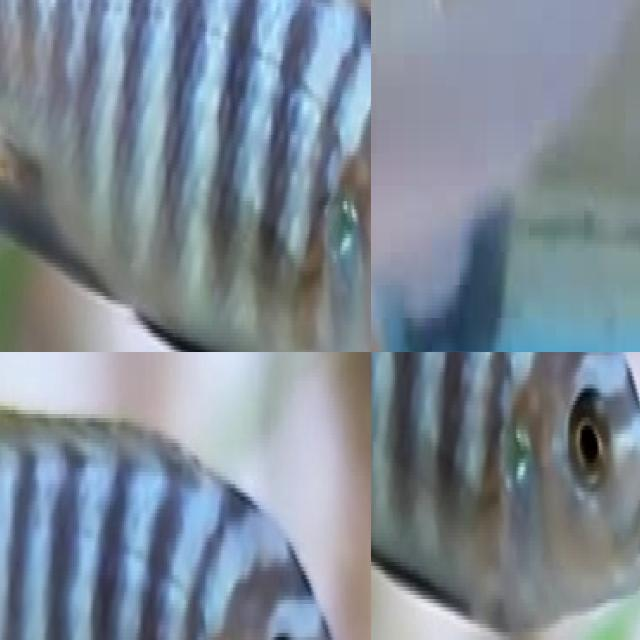fish: (0, 0, 371, 352), (0, 352, 366, 640)
